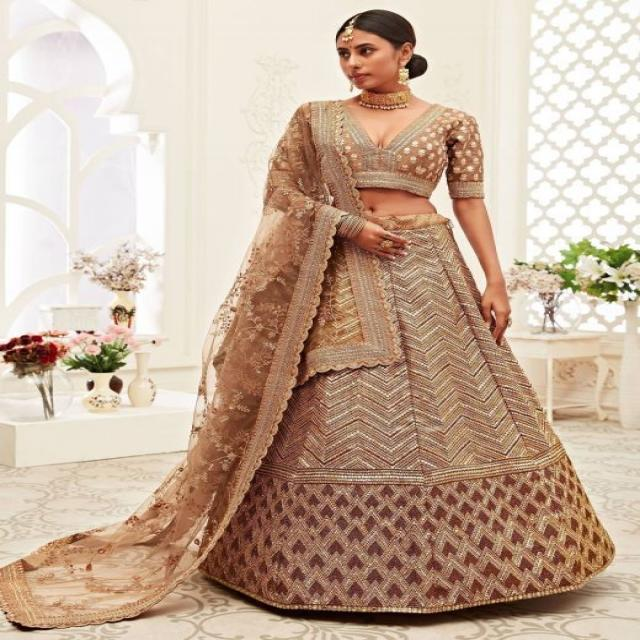female-dress: (210, 105, 549, 612), (262, 106, 490, 198)
